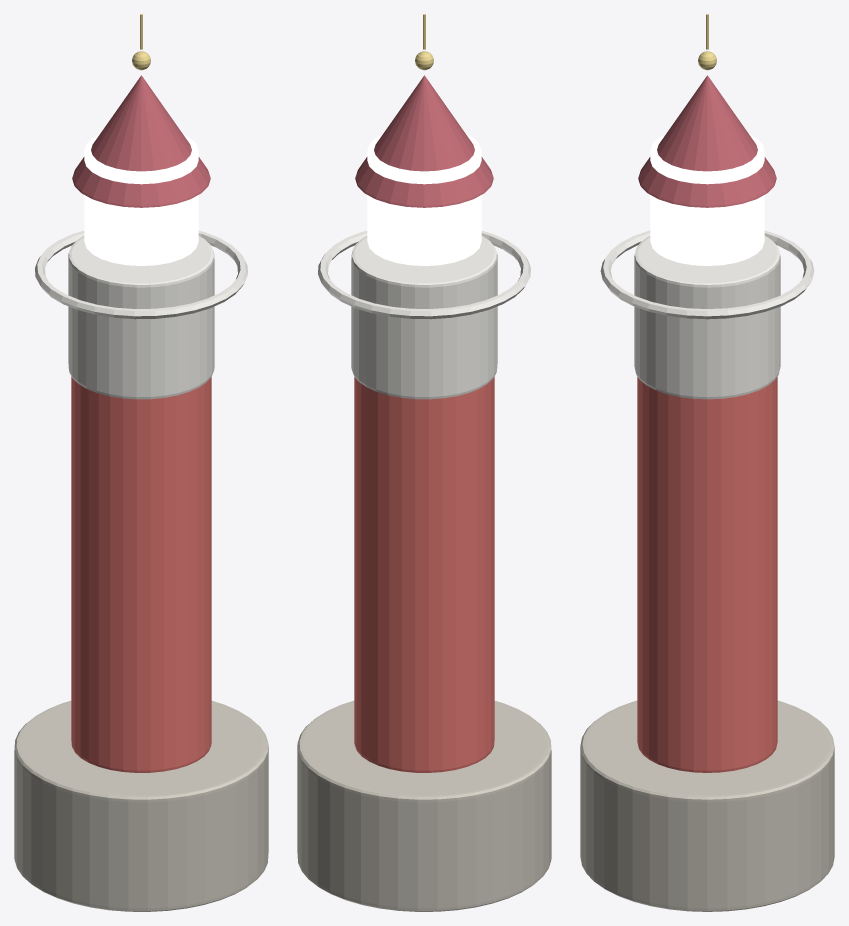
The model's file is leuchtturm_lod1.fbx.
The picture shows the model from 3 angles, left to right: view 1: azimuth 30°, elevation 25°; view 2: azimuth 150°, elevation 25°; view 3: azimuth 270°, elevation 25°; orthographic projection.
Visible parts, largest first — view 1: Leuchtturm_Turm_LOD1, Leuchtturm_Sockel_LOD1, Leuchtturm_Turm_Weiss_LOD1, Leuchtturm_Dach_LOD1, Leuchtturm_Laterne_LOD1, Leuchtturm_Veranda_LOD1; view 2: Leuchtturm_Turm_LOD1, Leuchtturm_Sockel_LOD1, Leuchtturm_Turm_Weiss_LOD1, Leuchtturm_Dach_LOD1, Leuchtturm_Laterne_LOD1, Leuchtturm_Veranda_LOD1; view 3: Leuchtturm_Turm_LOD1, Leuchtturm_Sockel_LOD1, Leuchtturm_Turm_Weiss_LOD1, Leuchtturm_Dach_LOD1, Leuchtturm_Laterne_LOD1, Leuchtturm_Veranda_LOD1.
Boxes of the visible parts, left/top/right/bottom form: Leuchtturm_Turm_LOD1: left=71, top=376, right=211, bottom=772; Leuchtturm_Sockel_LOD1: left=14, top=700, right=268, bottom=911; Leuchtturm_Turm_Weiss_LOD1: left=68, top=236, right=214, bottom=399; Leuchtturm_Dach_LOD1: left=72, top=75, right=210, bottom=207; Leuchtturm_Laterne_LOD1: left=84, top=134, right=198, bottom=265; Leuchtturm_Veranda_LOD1: left=35, top=230, right=247, bottom=319; Leuchtturm_Turm_LOD1: left=354, top=376, right=494, bottom=772; Leuchtturm_Sockel_LOD1: left=297, top=700, right=551, bottom=911; Leuchtturm_Turm_Weiss_LOD1: left=351, top=236, right=497, bottom=399; Leuchtturm_Dach_LOD1: left=355, top=75, right=493, bottom=207; Leuchtturm_Laterne_LOD1: left=367, top=134, right=481, bottom=265; Leuchtturm_Veranda_LOD1: left=318, top=230, right=530, bottom=319; Leuchtturm_Turm_LOD1: left=637, top=376, right=777, bottom=772; Leuchtturm_Sockel_LOD1: left=580, top=700, right=834, bottom=911; Leuchtturm_Turm_Weiss_LOD1: left=634, top=236, right=780, bottom=399; Leuchtturm_Dach_LOD1: left=638, top=75, right=776, bottom=207; Leuchtturm_Laterne_LOD1: left=650, top=134, right=764, bottom=265; Leuchtturm_Veranda_LOD1: left=600, top=230, right=814, bottom=319.
Bounding box in the file's own units: 4 × 14.65 × 4.
